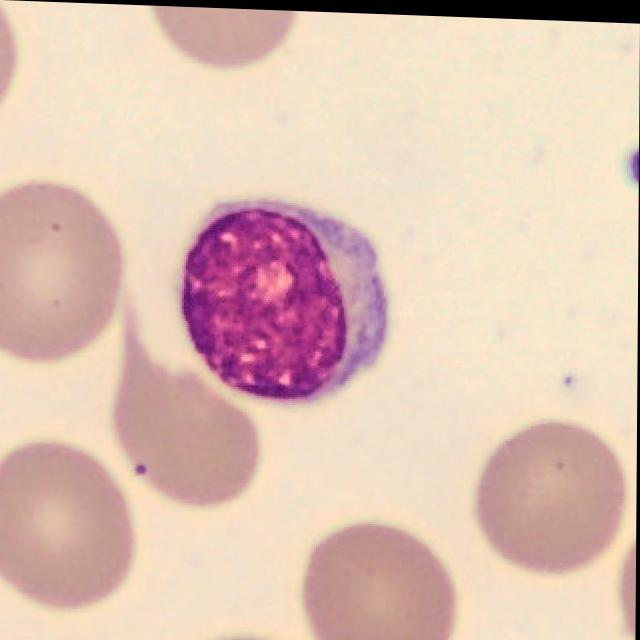Linfocito: (182, 202, 386, 399)
